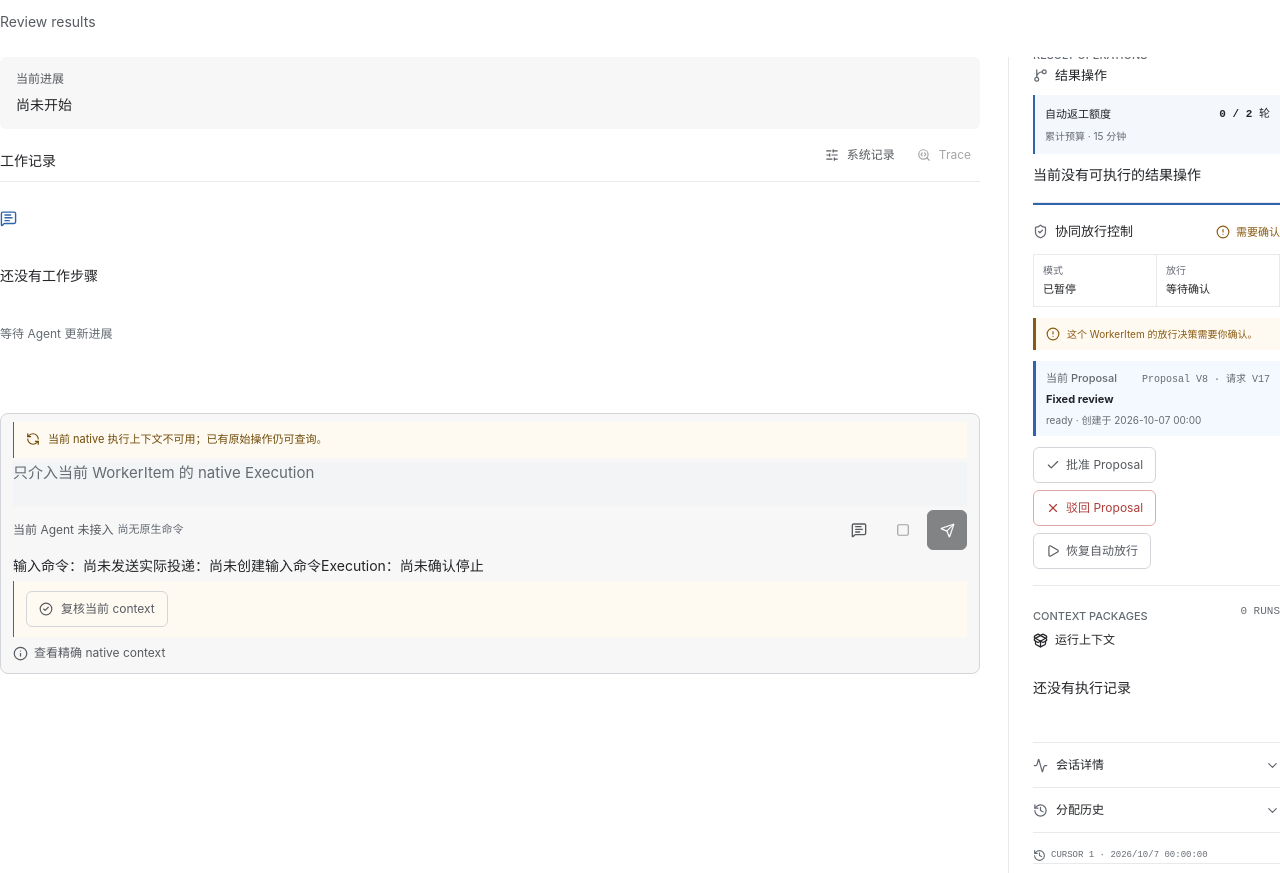
Scenario: native WorkerItem result actions Page › retains fixed approval Selection and truthful stale handling, selection=true
(page scrolled)
Click the button "批准 Proposal": {"x": 1095, "y": 465} [1033, 447, 1156, 483]
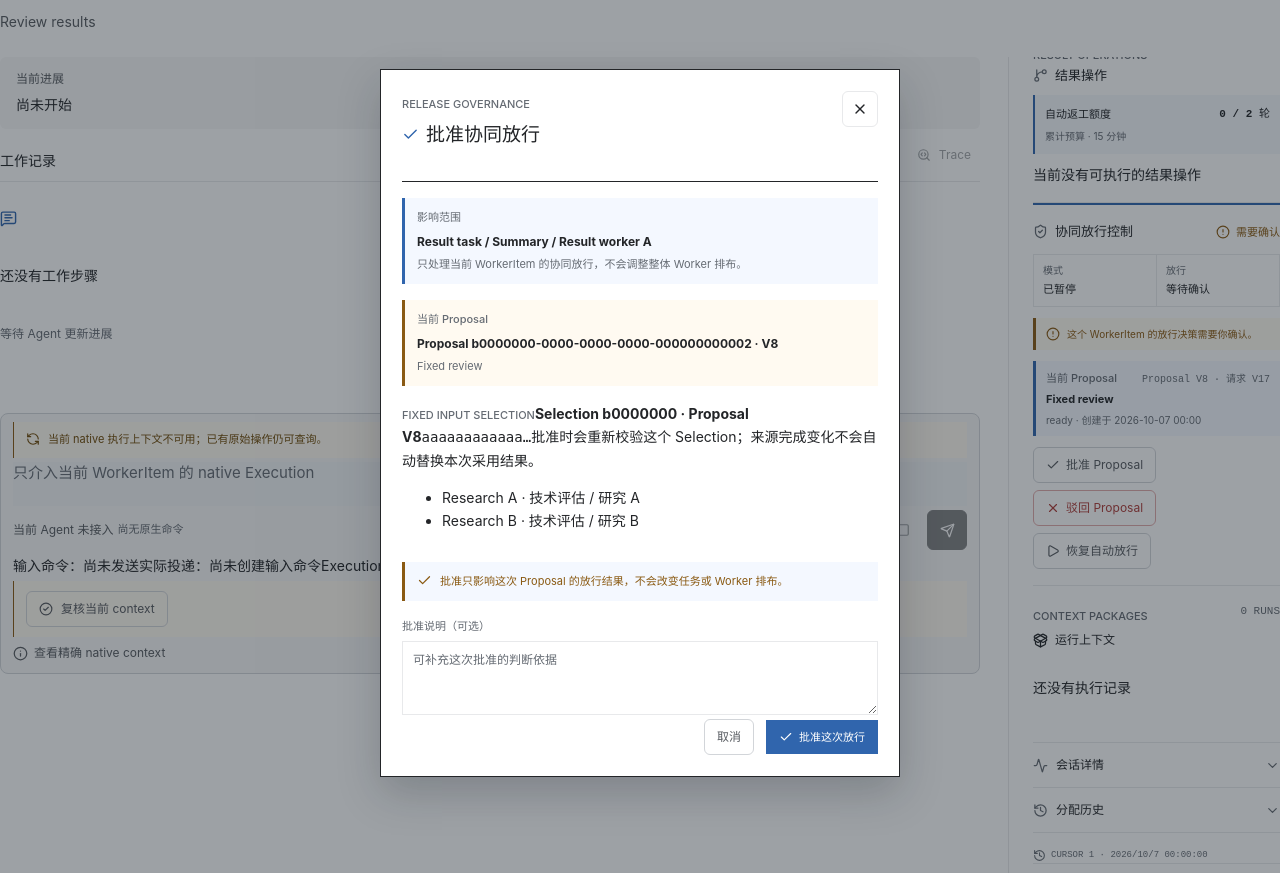
Click the button "批准这次放行": {"x": 822, "y": 737} [766, 720, 878, 754]
(page scrolled)
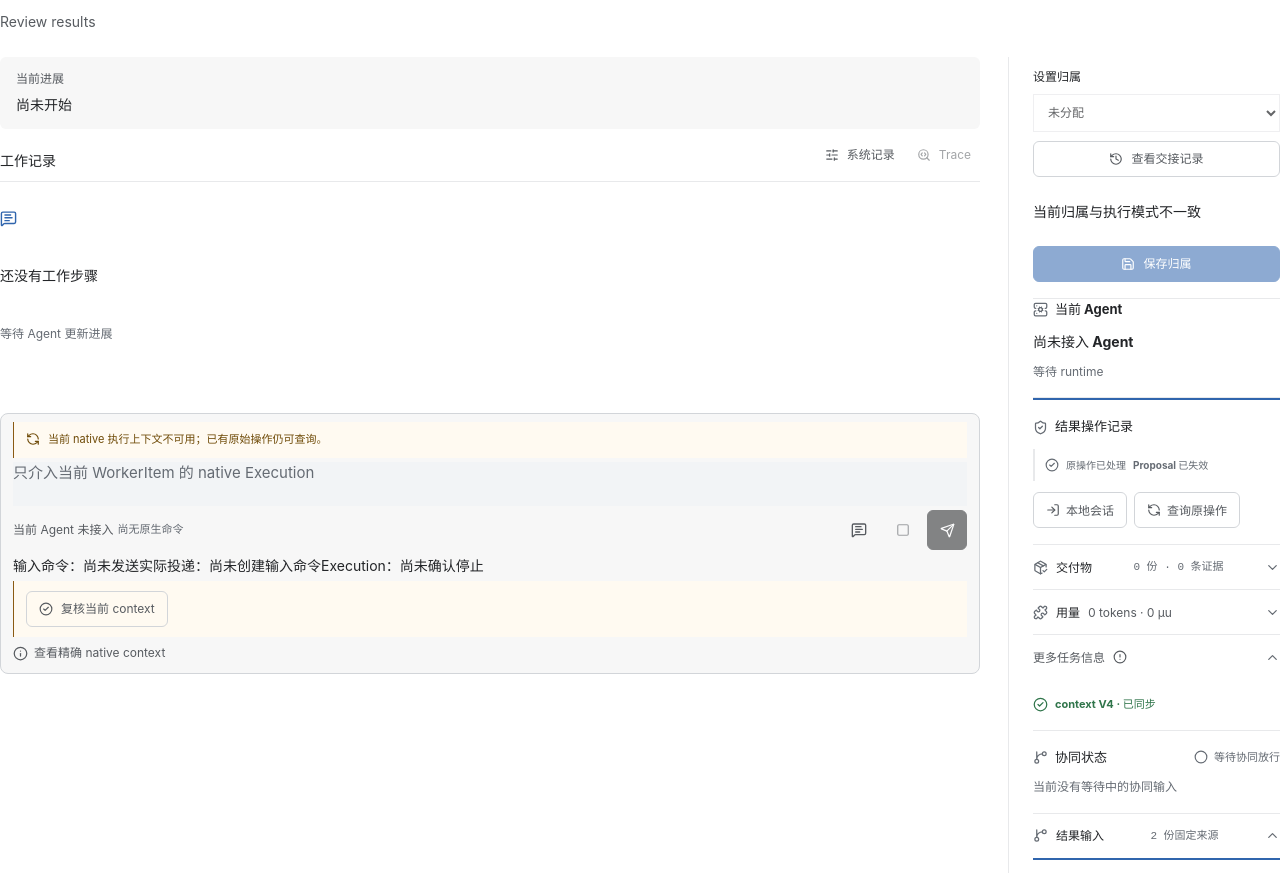
expect the text "Proposal 已失效" is shown: met, box [1133, 458, 1208, 472]
